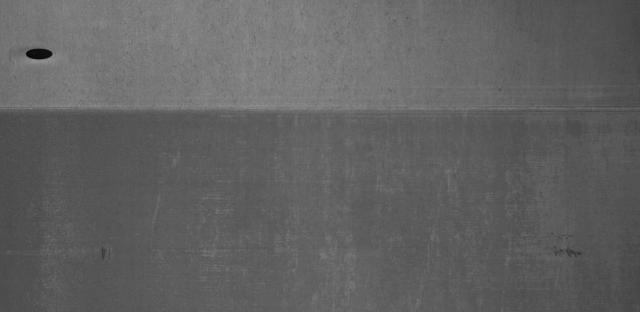oil_spot: (542, 228, 590, 262)
punching_hole: (18, 44, 60, 66)
rolled_pit: (91, 239, 119, 262)
welding_line: (1, 98, 638, 117)
